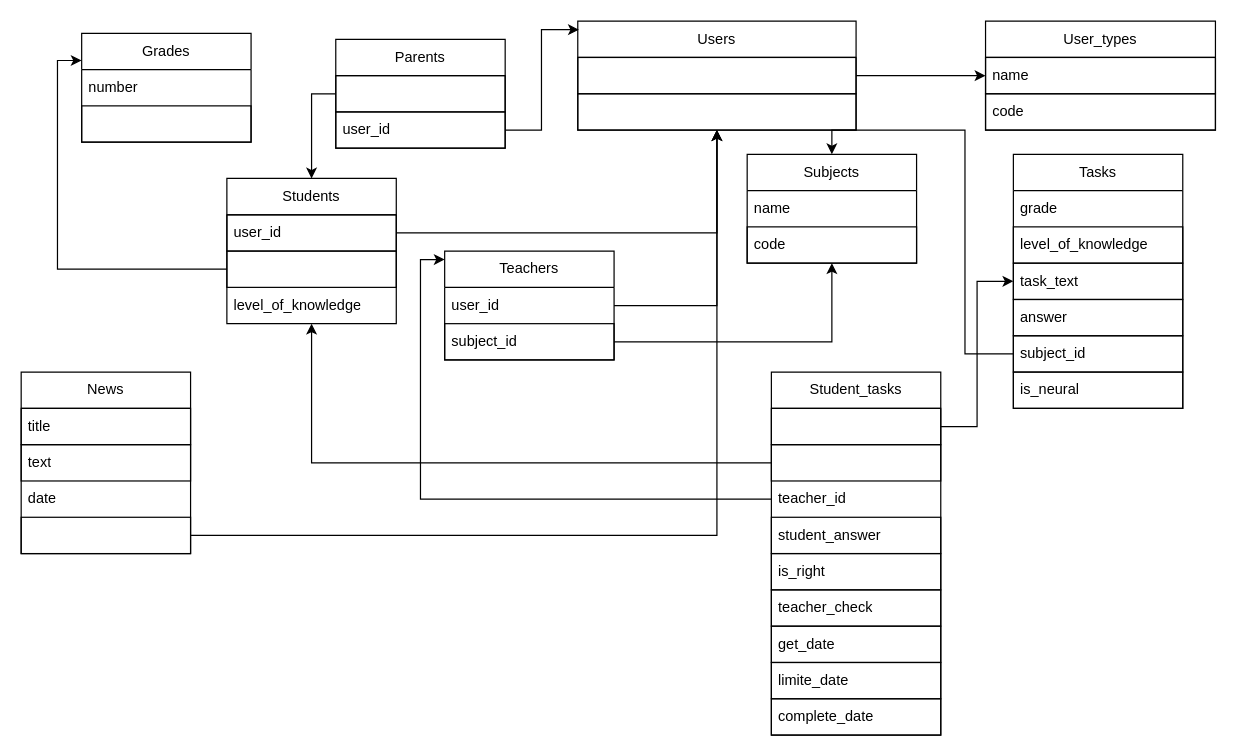
Some shapes in this 1237 by 756 pixel diagram are drawn without their labels. Each missing label, with the centre of its shape:
create_user_id: pixel 105 535
grade_id: pixel 311 268
letter: pixel 165 123
phone_number: pixel 716 111
student_id: pixel 855 462
students_id: pixel 420 93
task_id: pixel 855 426
user_type: pixel 716 75
